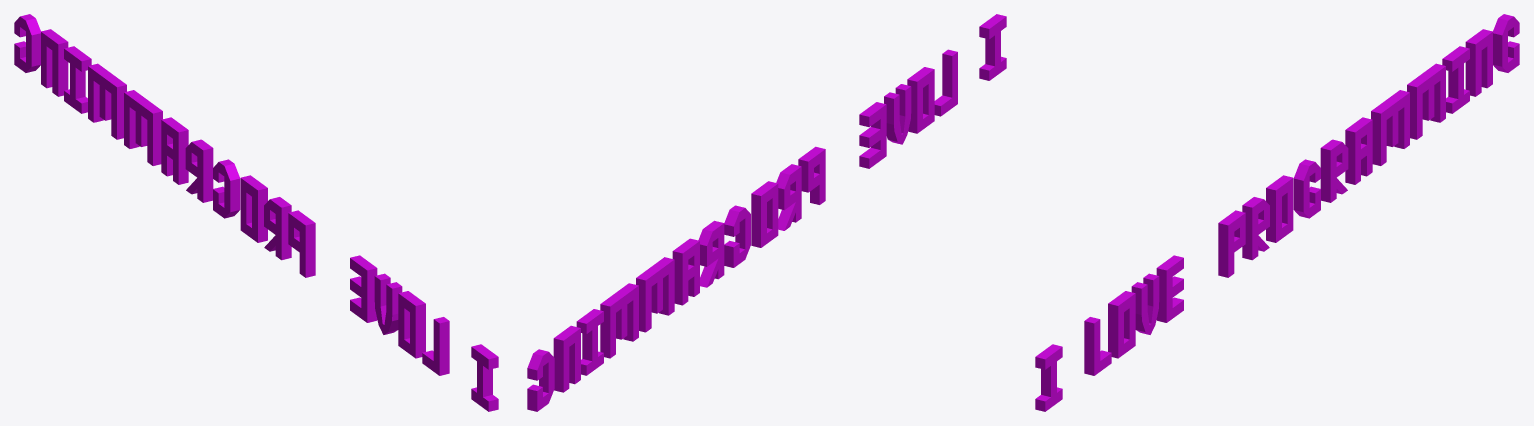
File: ILOVEPROGRAMMING.gltf
3 views of the same model, side by side, from view 1: azimuth 30°, elevation 25°; view 2: azimuth 150°, elevation 25°; view 3: azimuth 330°, elevation 25° (orthographic).
Visible parts, largest first — view 1: I; view 2: I; view 3: I.
Boxes of the visible parts, <box> form: I: <box>14,14,498,411</box>; I: <box>527,14,1006,411</box>; I: <box>1035,14,1519,411</box>.
Size of the model in its own units: 2 by 10.01 by 163.
